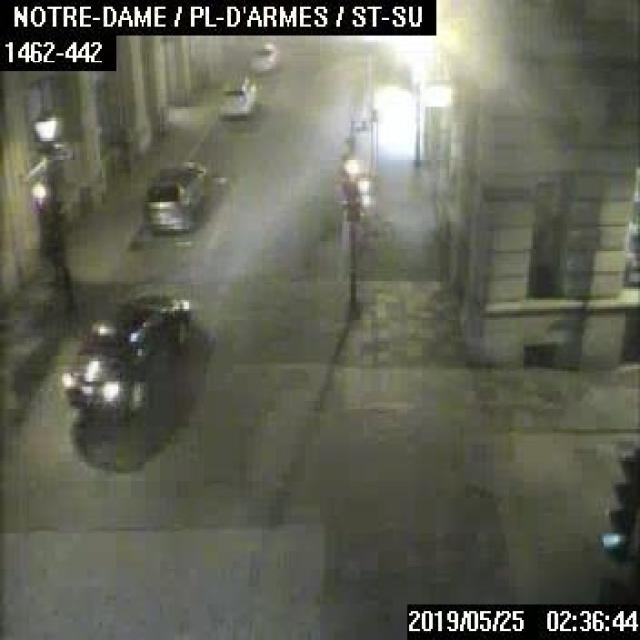vehicle: (58, 286, 189, 416), (136, 151, 218, 231), (212, 76, 255, 126), (244, 36, 283, 77)
